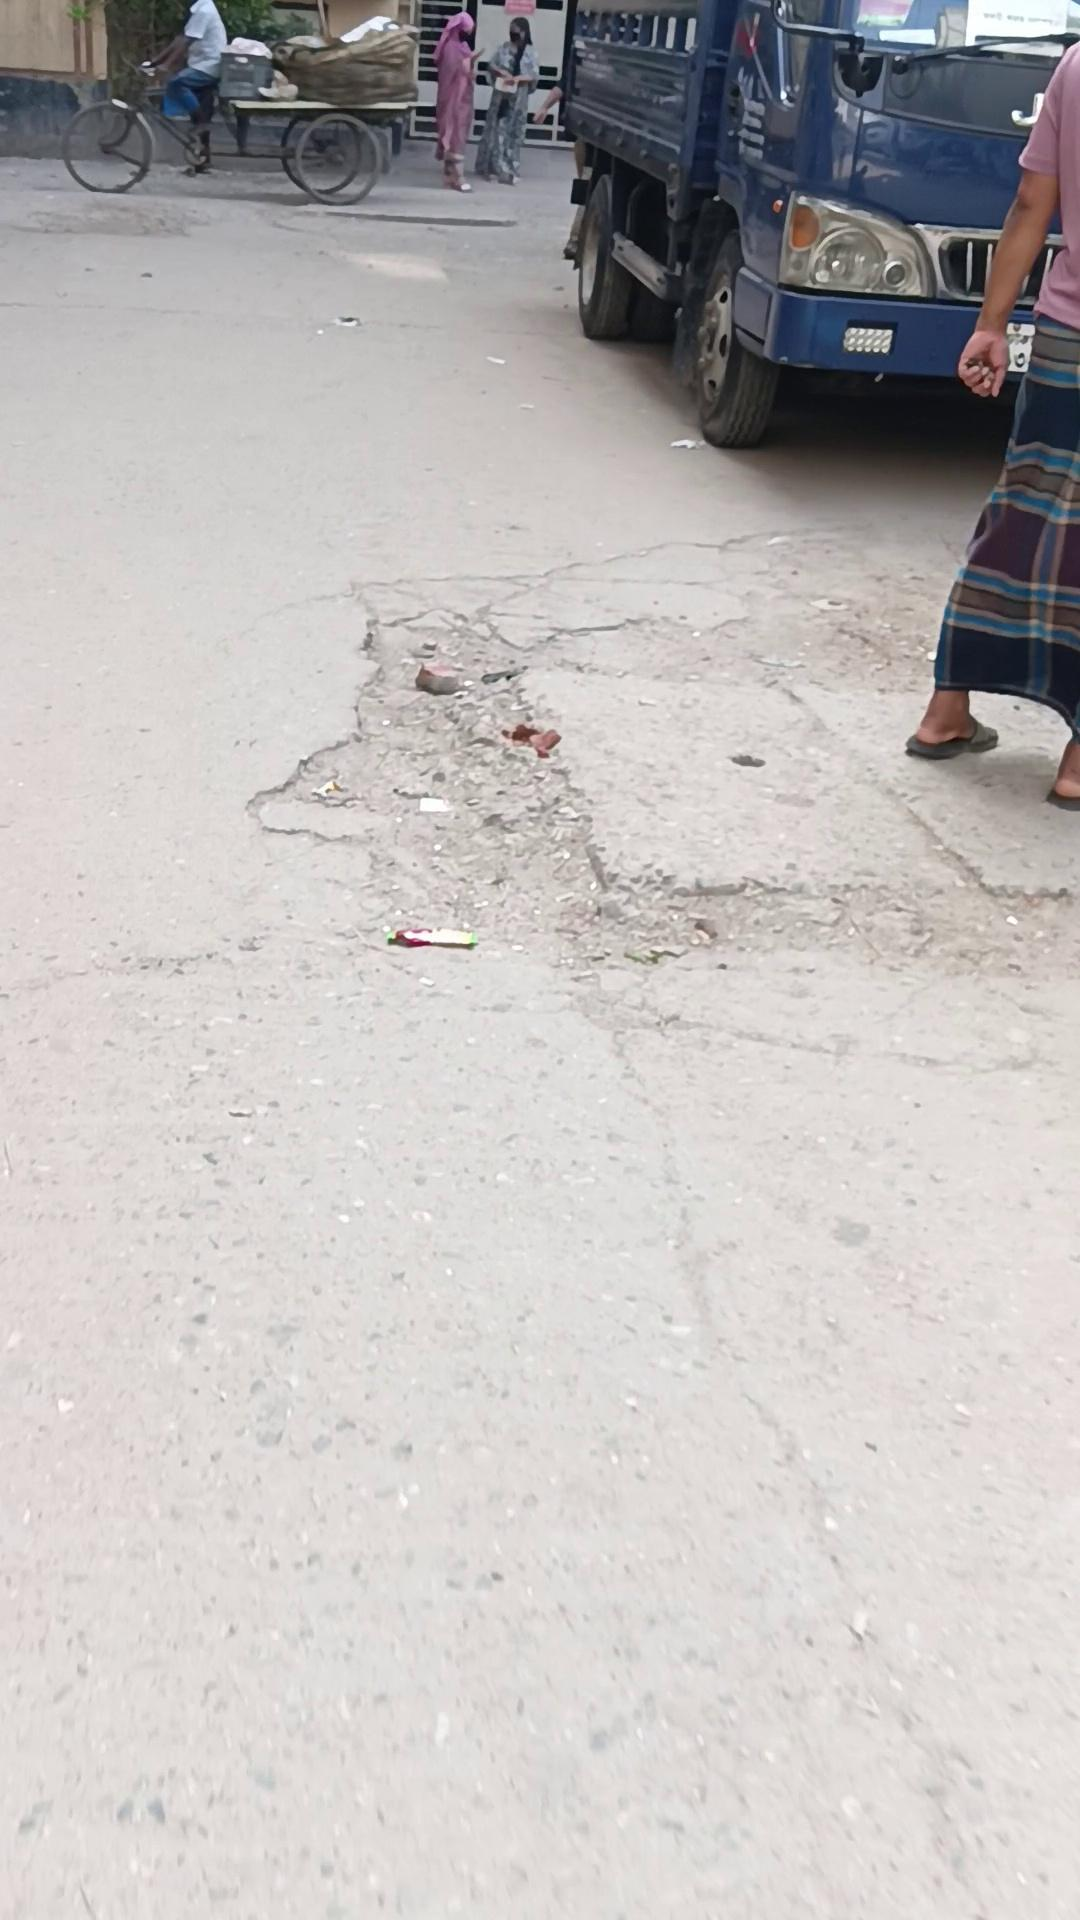Broken-road: (3, 133, 1077, 1915)
Crosswalk: (298, 203, 518, 229)
Muddy road: (905, 41, 1079, 808), (142, 1, 228, 171), (476, 16, 538, 185), (431, 11, 484, 191)
Pothole: (59, 45, 413, 206)
Traffic-sign: (556, 0, 1077, 450)
